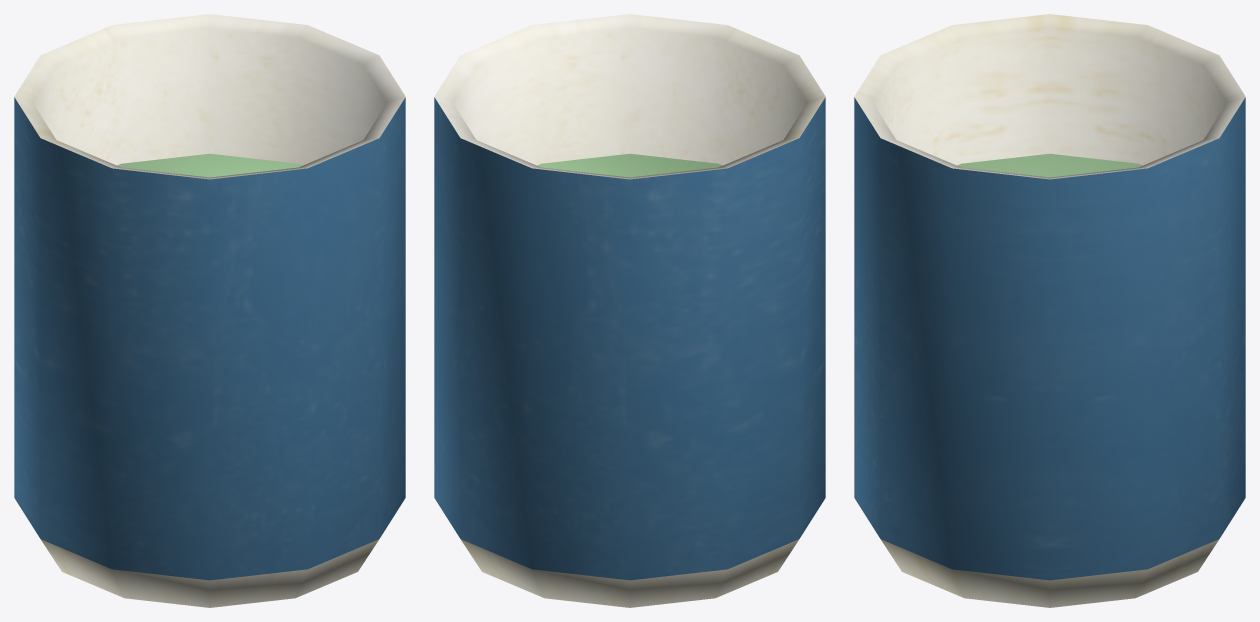
The model's file is sake05d.fbx.
3 renders of one model, left to right at view 1: azimuth 30°, elevation 25°; view 2: azimuth 150°, elevation 25°; view 3: azimuth 270°, elevation 25°, orthographic.
Visible parts, largest first — view 1: sake05d; view 2: sake05d; view 3: sake05d.
Boxes of the visible parts, bbox=[...] form: sake05d: bbox=[14, 14, 405, 607]; sake05d: bbox=[434, 14, 825, 607]; sake05d: bbox=[854, 14, 1245, 607].
Bounding box in the file's own units: 7.52 × 9.3 × 7.52.
